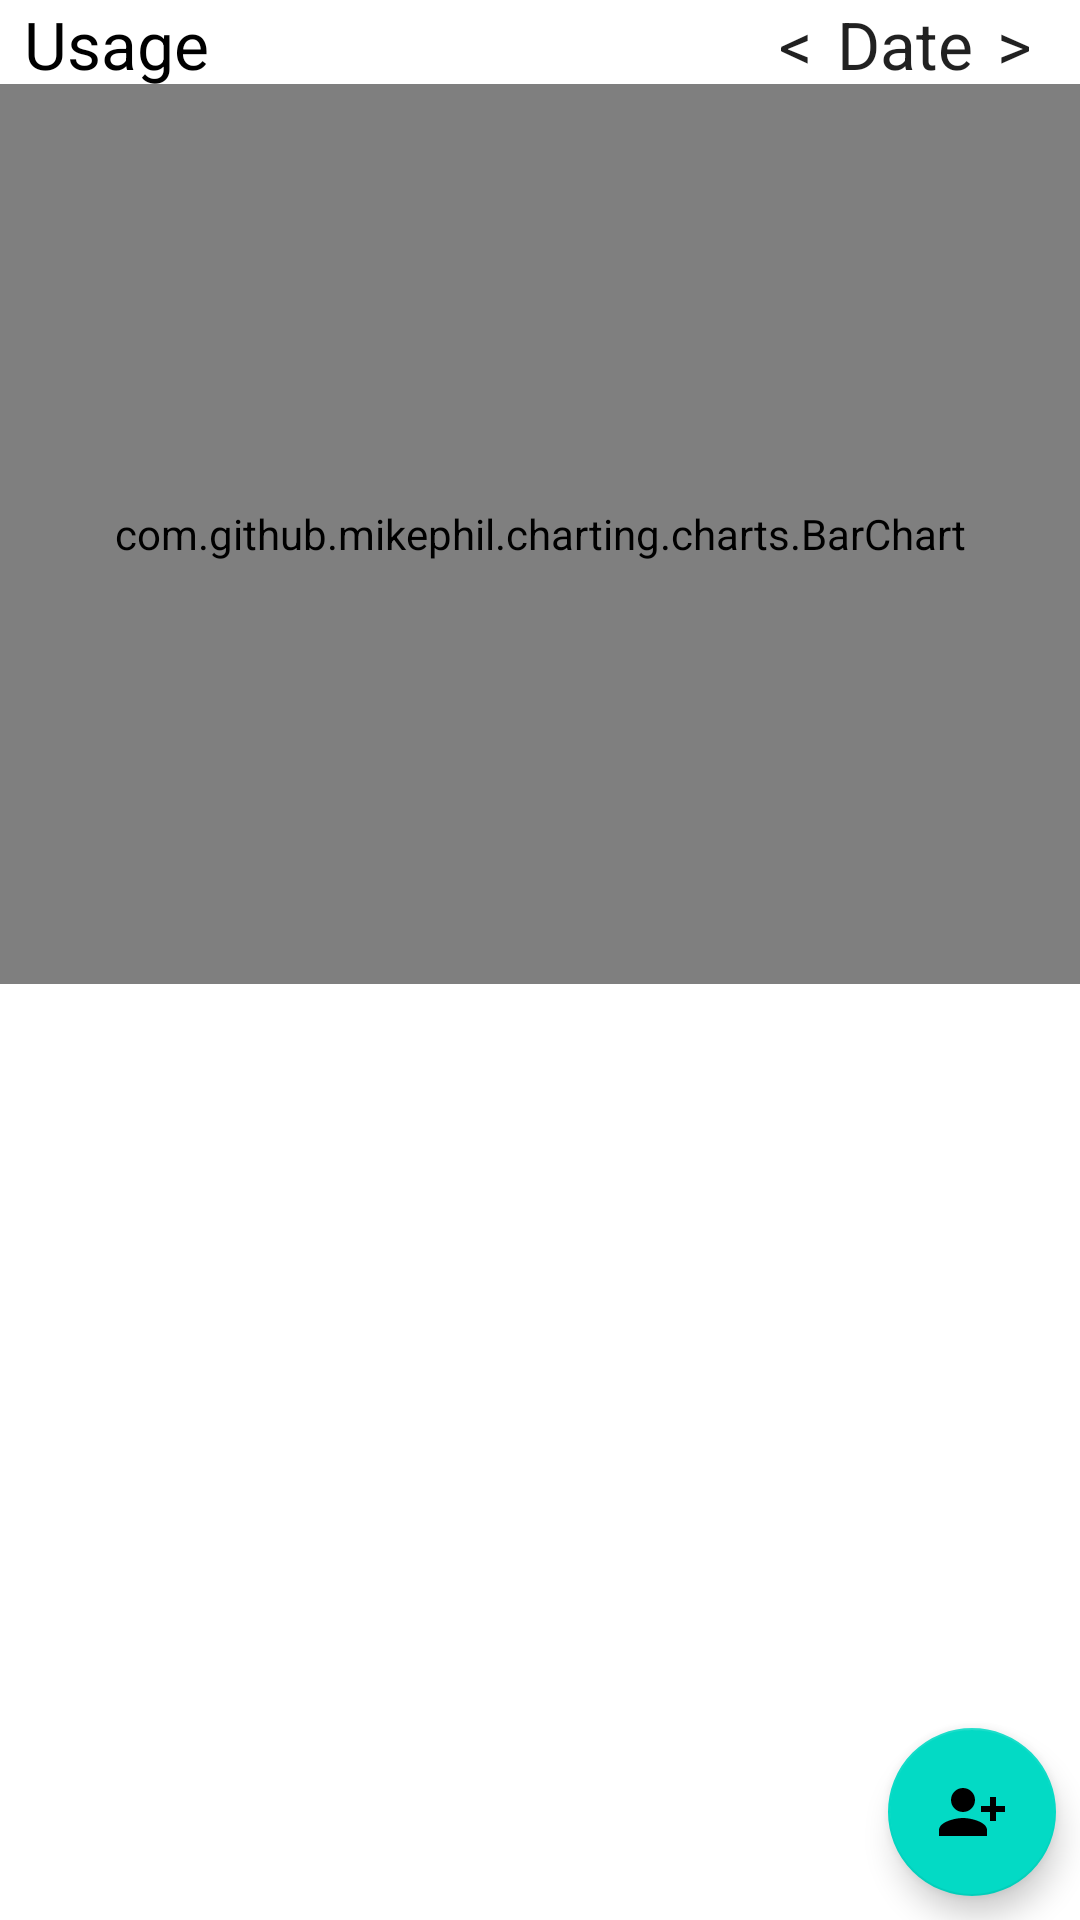

Named icons in this screenshot (1080px×1920px) and their centers, (x=x, y=y):
Add Friend: (x=972, y=1812)
